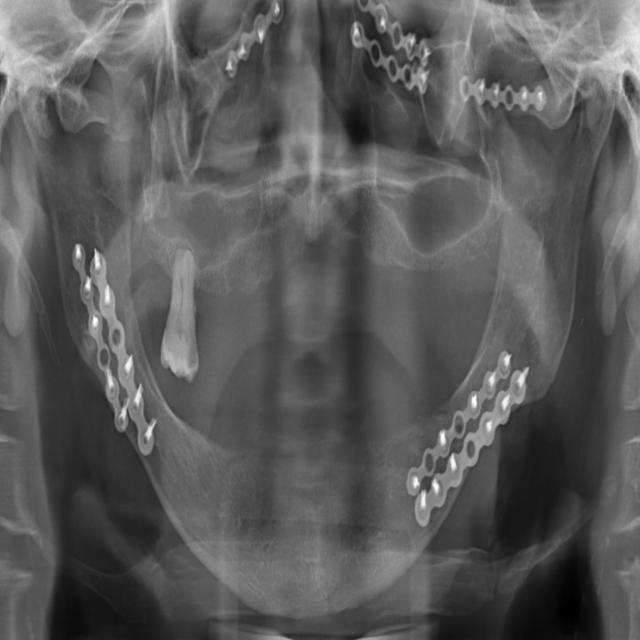Caries: (155, 245, 200, 385)
